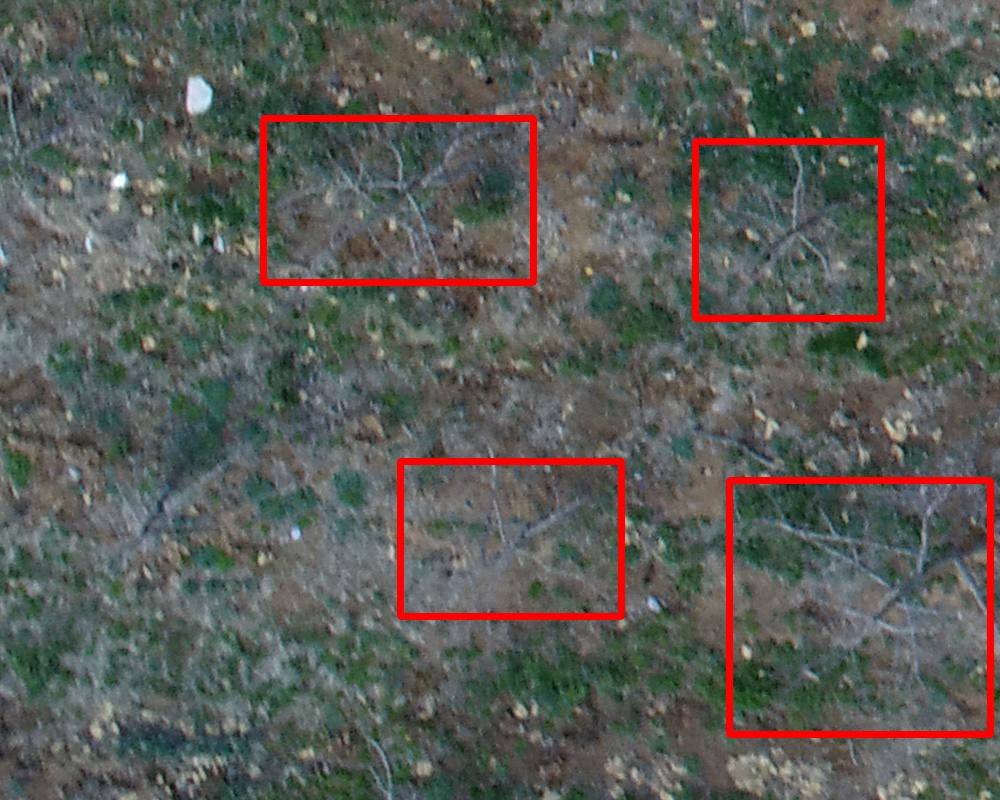apple: (729, 480, 990, 734), (263, 118, 533, 282), (400, 461, 621, 616), (695, 141, 881, 318)
